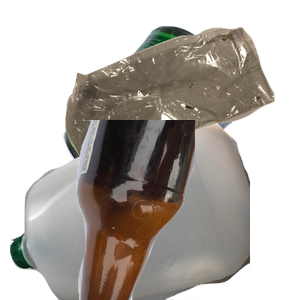glass: (60, 120, 300, 300)
metal: (60, 23, 300, 203)
plastic: (10, 120, 250, 300)
trash: (63, 24, 300, 179)
